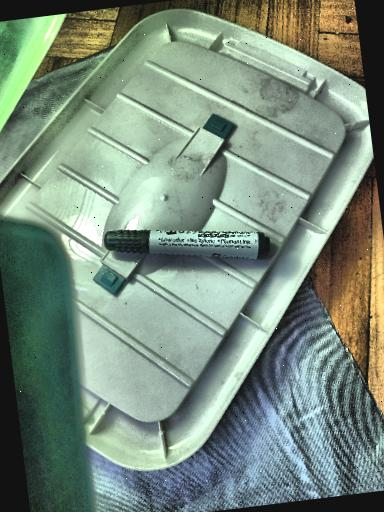marcador negro: (104, 230, 270, 259)
